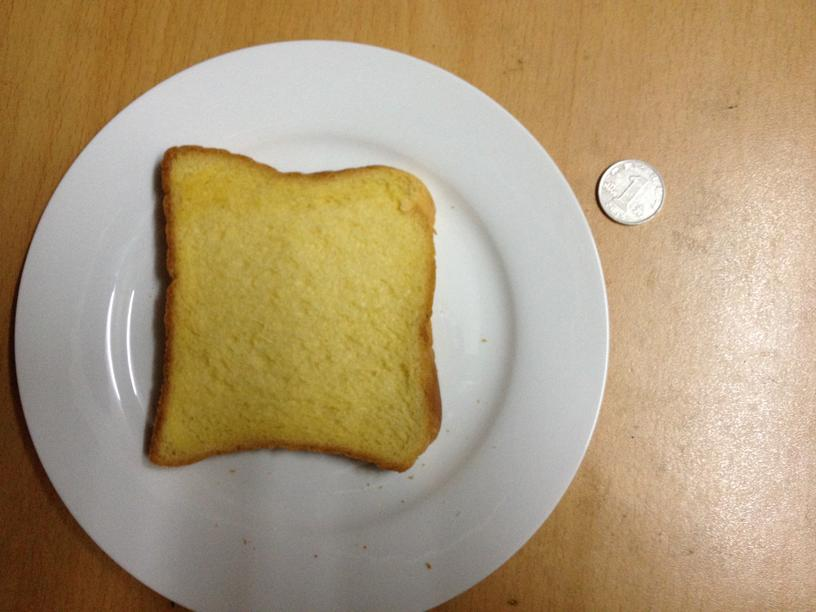bread: (151, 140, 442, 474)
coin: (597, 157, 665, 223)
